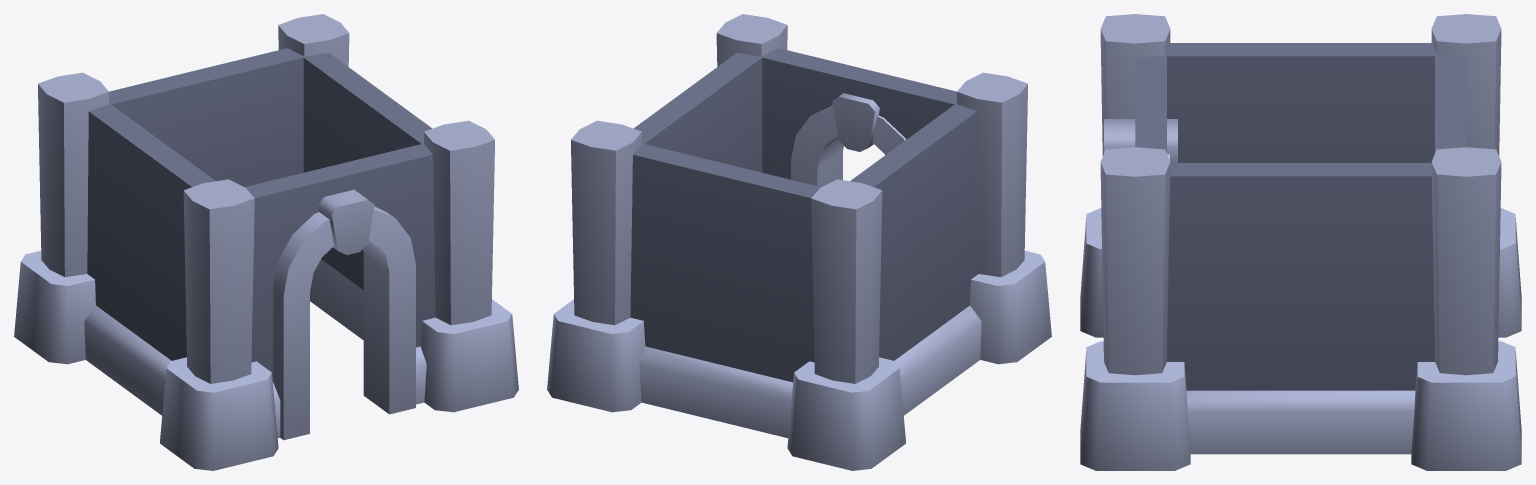
File: crypt-small_lev2.glb
The picture shows the model from 3 angles, left to right: view 1: azimuth 30°, elevation 25°; view 2: azimuth 150°, elevation 25°; view 3: azimuth 270°, elevation 25°; orthographic projection. The views are drawn at different scales.
Visible parts, largest first — view 1: crypt-small_lev2; view 2: crypt-small_lev2; view 3: crypt-small_lev2.
Boxes of the visible parts, x1,y1,x2,y2 form: crypt-small_lev2: [14, 14, 518, 470]; crypt-small_lev2: [547, 14, 1051, 470]; crypt-small_lev2: [1080, 14, 1521, 470].
Size of the model in its own units: 10.8 by 8 by 11.2.
Materials: 1 (1 with a texture image).
